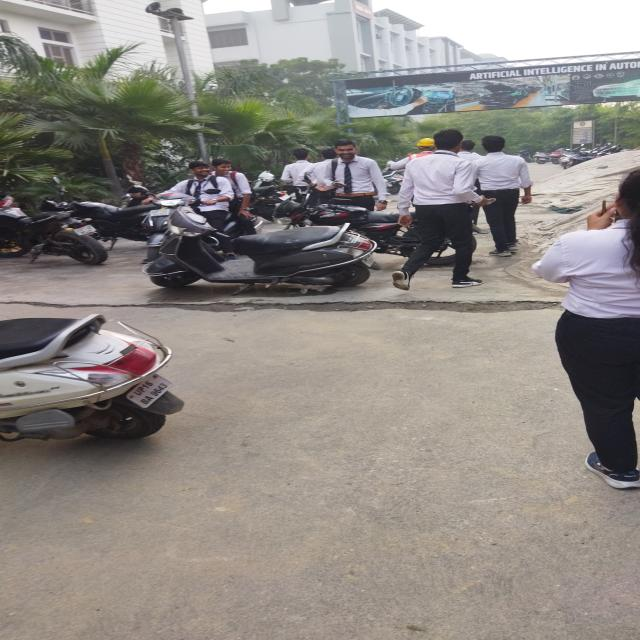unsafe: (537, 167, 640, 493), (397, 132, 484, 289), (478, 134, 536, 257), (163, 159, 230, 242), (318, 138, 390, 212), (210, 157, 250, 239), (279, 147, 315, 205)
